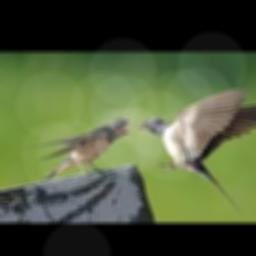Swallow: (138, 86, 256, 214), (24, 117, 133, 180)
